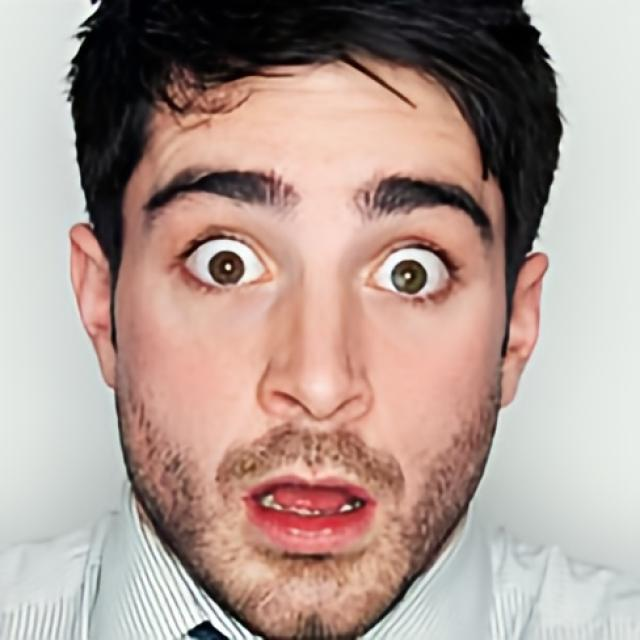fear: (111, 47, 506, 640)
